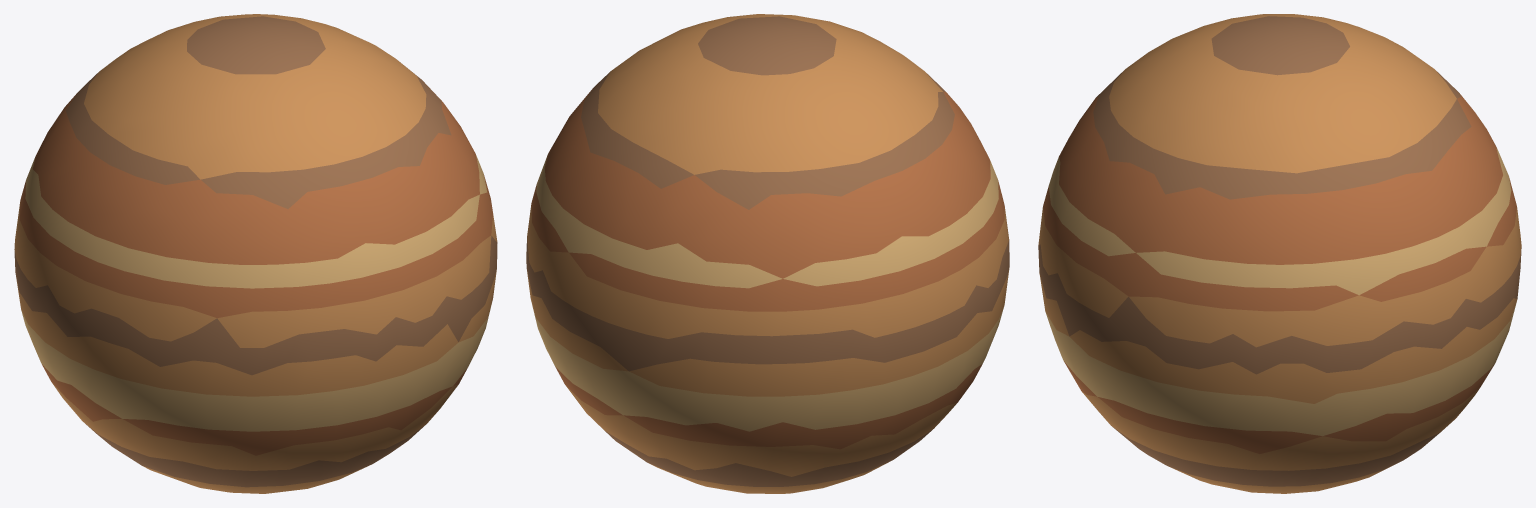
File: Planet13.glb
3 renders of one model, left to right at view 1: azimuth 30°, elevation 25°; view 2: azimuth 150°, elevation 25°; view 3: azimuth 270°, elevation 25°, orthographic.
Parts seen in each view (by area): view 1: Planet_6; view 2: Planet_6; view 3: Planet_6.
Part boxes in pixels (x1,y1,x2,y2): Planet_6: (14,14,497,493); Planet_6: (526,14,1009,493); Planet_6: (1038,14,1521,493).
Bounding box in the file's own units: 3.76 × 3.75 × 3.76.
Materials: 1 (1 with a texture image).
